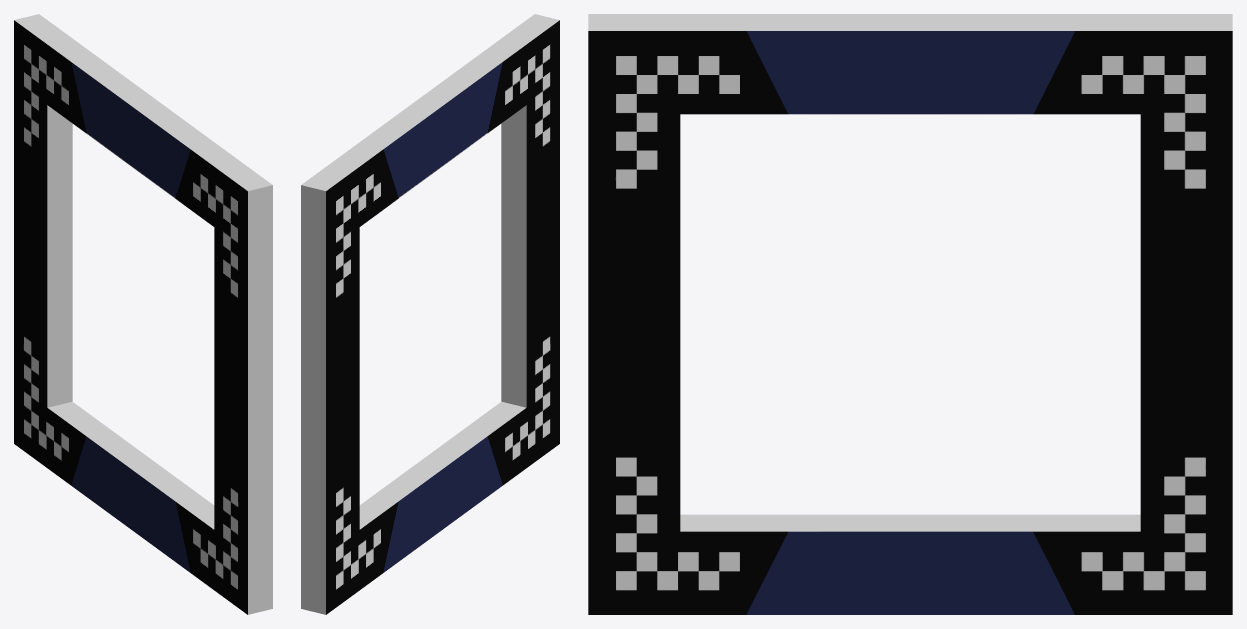
The model's file is gate.glb.
3 views of the same model, side by side, from view 1: azimuth 30°, elevation 25°; view 2: azimuth 150°, elevation 25°; view 3: azimuth 270°, elevation 25° (orthographic). The views are drawn at different scales.
Parts seen in each view (by area): view 1: Cube; view 2: Cube; view 3: Cube.
Part boxes in pixels (x1,y1,x2,y2): Cube: [14, 14, 272, 614]; Cube: [301, 14, 559, 614]; Cube: [588, 14, 1232, 614].
Bounding box in the file's own units: 0.1323 × 2.13 × 2.13.
Materials: 3 (1 with a texture image).
